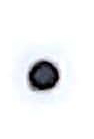cancer: (12, 37, 80, 112)
